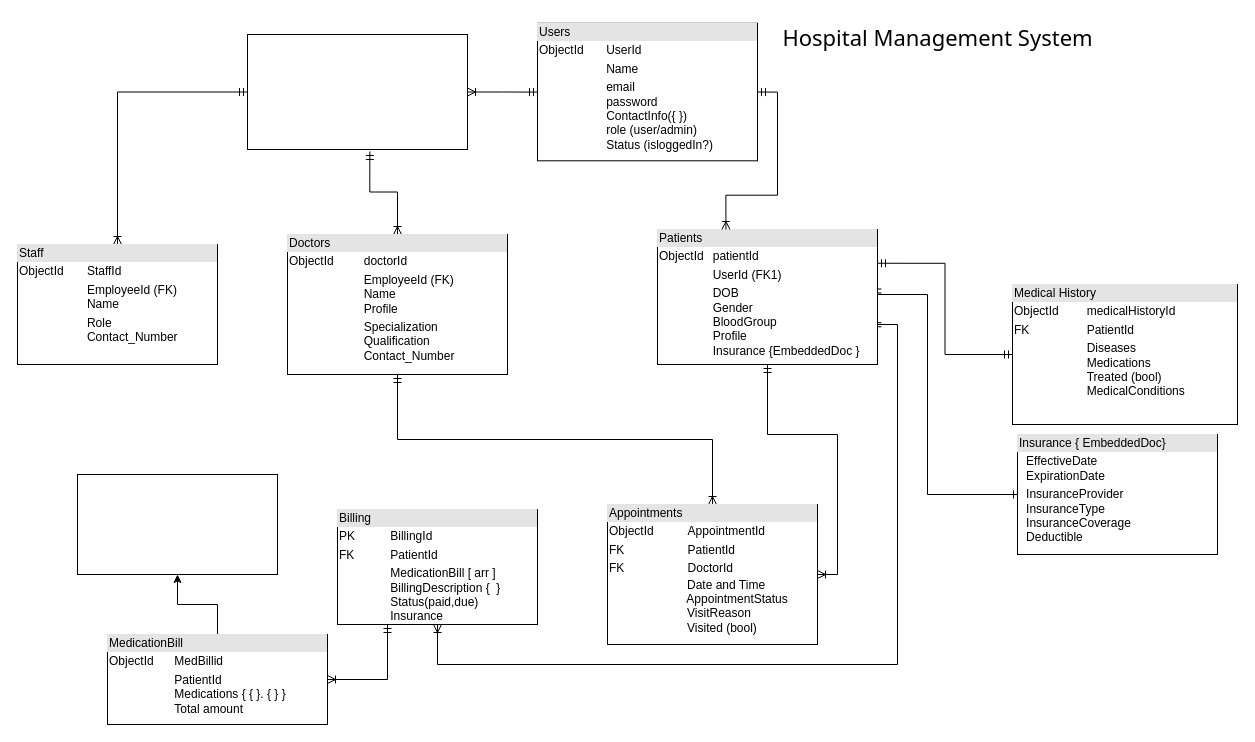
Image size: 1255x742. Some labels were removed from this diagram. Here are the shapes that lost their labels. From the top down, the box of each, then its label:
(246, 34, 468, 150): Employee ObjectId EmployeeId userId (FK) DOB Joining_Date Salary
(76, 474, 278, 574): Inventory ObjectId InventoryId Equipment Pharmaceuticals { } QuantityAvailable
